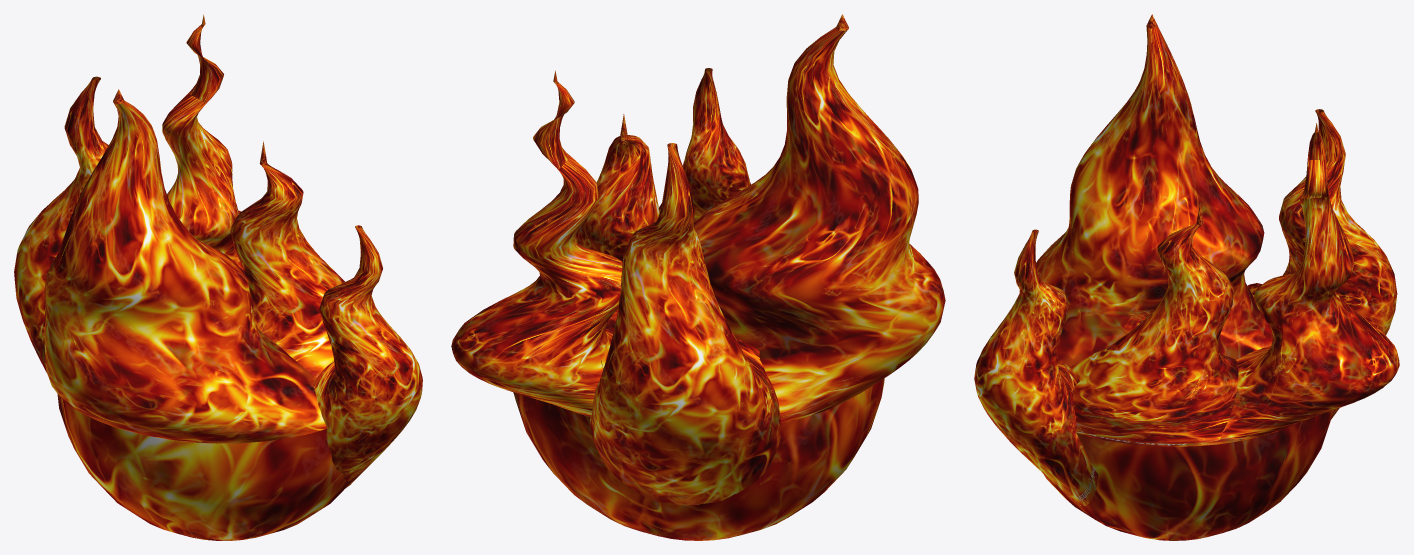
The model's file is fire.fbx.
3 views of the same model, side by side, from view 1: azimuth 30°, elevation 25°; view 2: azimuth 150°, elevation 25°; view 3: azimuth 270°, elevation 25° (orthographic). The views are drawn at different scales.
Visible parts, largest first — view 1: fire; view 2: fire; view 3: fire.
Part boxes in pixels (x1=…): fire: x1=14, y1=14, x2=422, y2=540; fire: x1=451, y1=14, x2=945, y2=540; fire: x1=974, y1=14, x2=1399, y2=540.
Size of the model in its own units: 11.36 by 15.54 by 13.12.
1 material, 1 textured.
